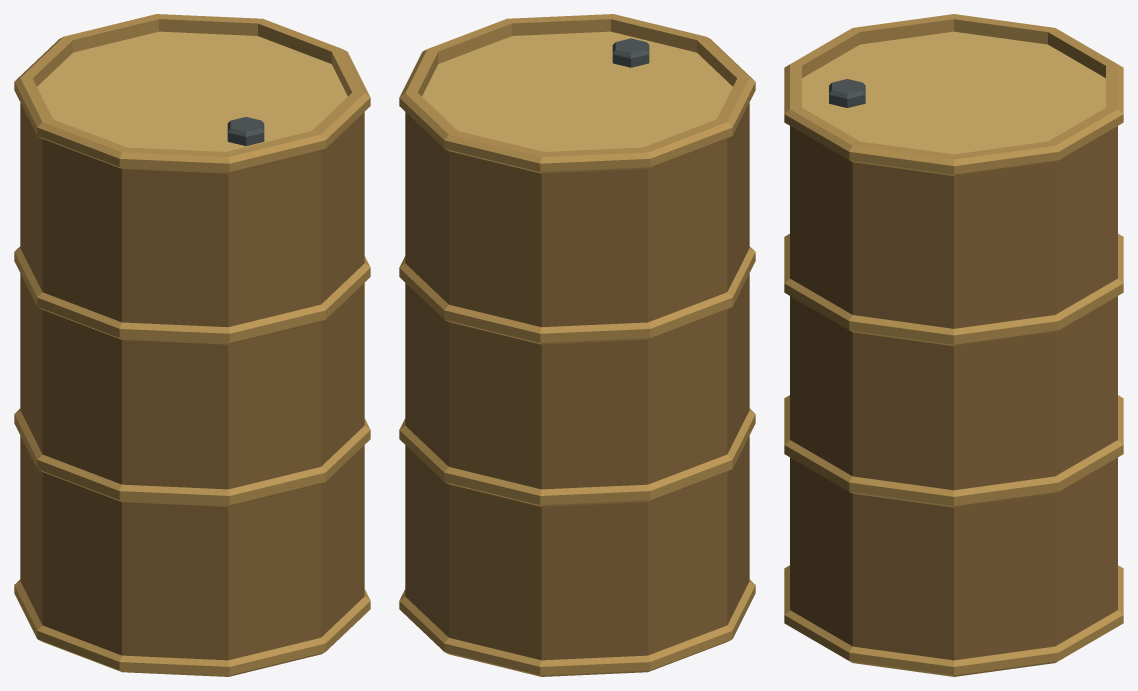
File: Drum_2.FBX
3 views of the same model, side by side, from view 1: azimuth 30°, elevation 25°; view 2: azimuth 150°, elevation 25°; view 3: azimuth 270°, elevation 25° (orthographic).
Visible parts, largest first — view 1: drum_003; view 2: drum_003; view 3: drum_003.
Part boxes in pixels (x1,y1,x2,y2): drum_003: (14, 14, 370, 676); drum_003: (399, 14, 755, 676); drum_003: (784, 14, 1123, 676).
Bounding box in the file's own units: 0.5919 × 0.9483 × 0.5629.
1 material, 1 textured.
